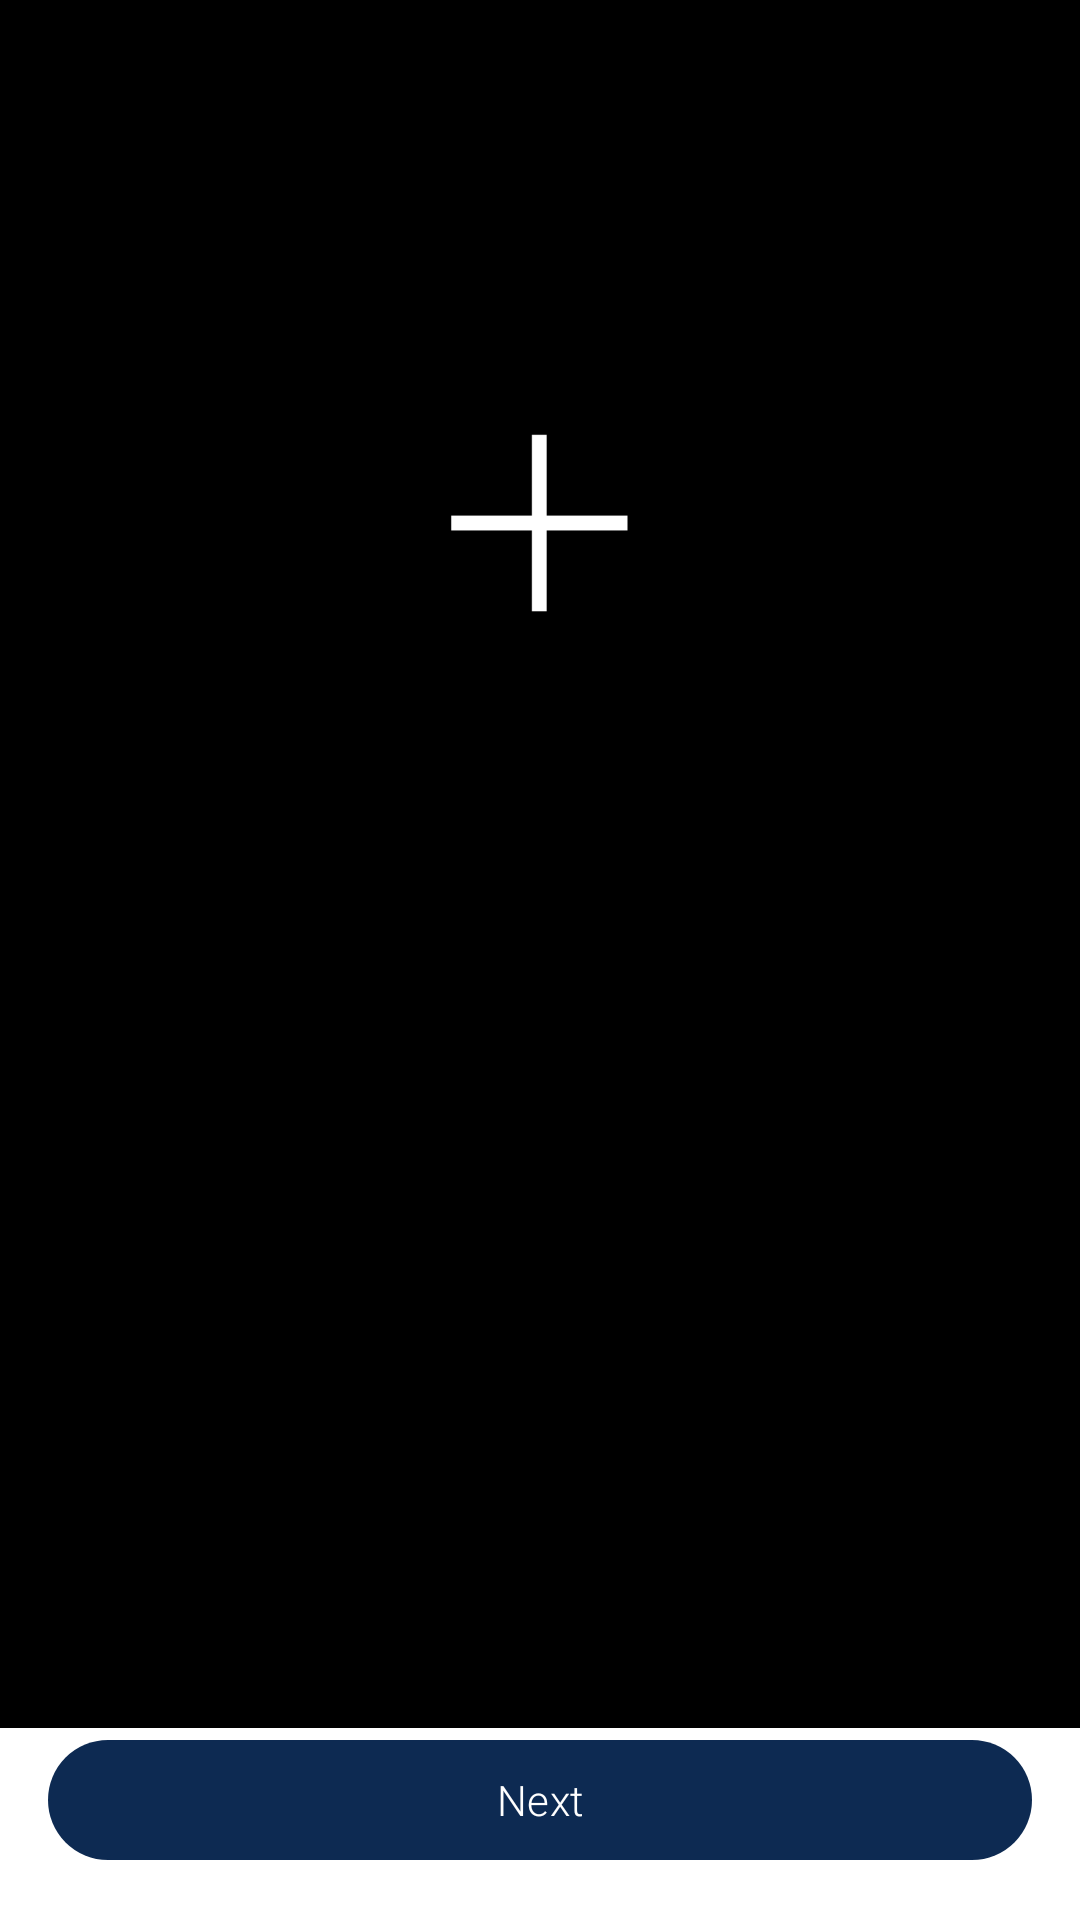

Named icons in this screenshot (1080w x 1920h) and their bounding boxes, BBox(x1, y1, x2, y2):
fixation target: BBox(451, 434, 628, 612)
